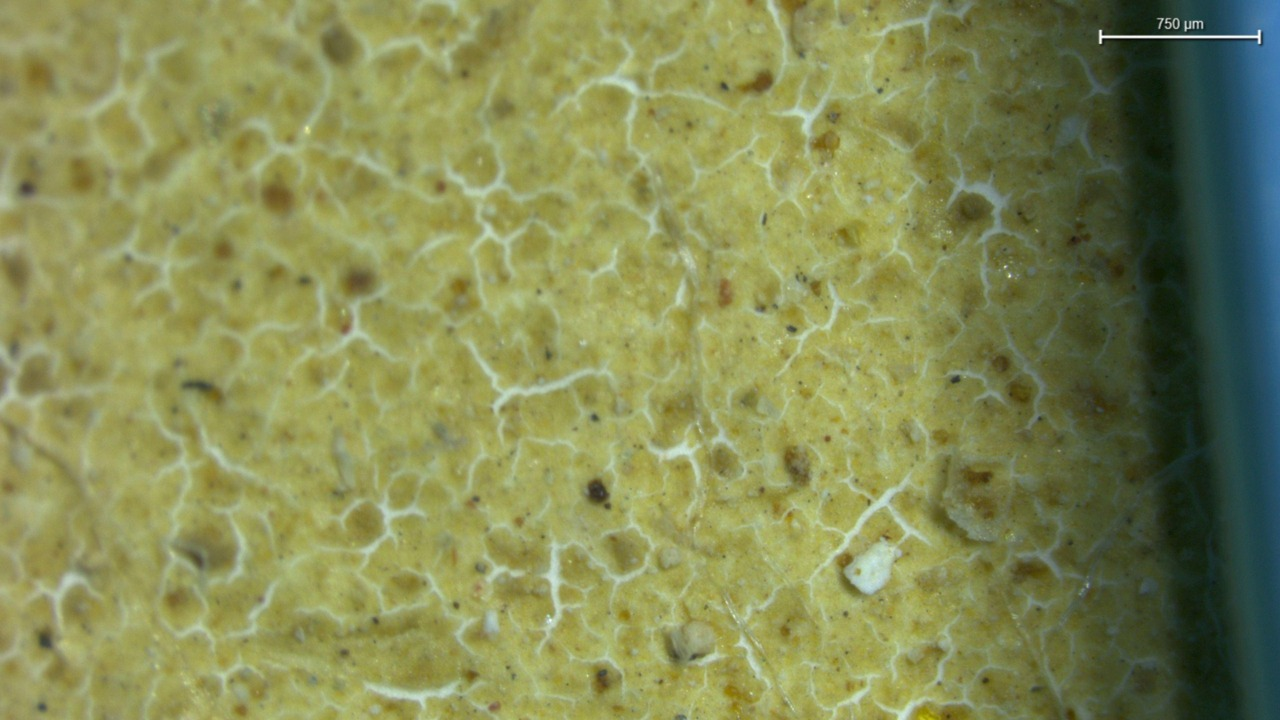microplastic_fragment: (939, 454, 1012, 542), (844, 537, 902, 595), (662, 622, 715, 664)
